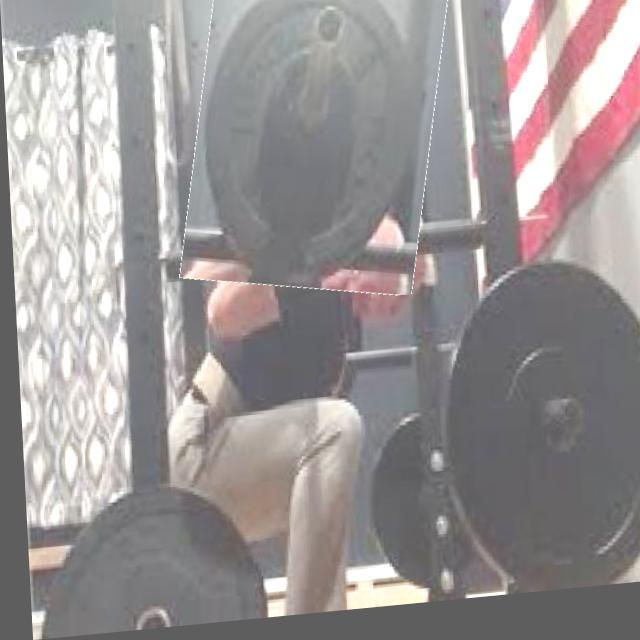barbell: (178, 1, 449, 311)
